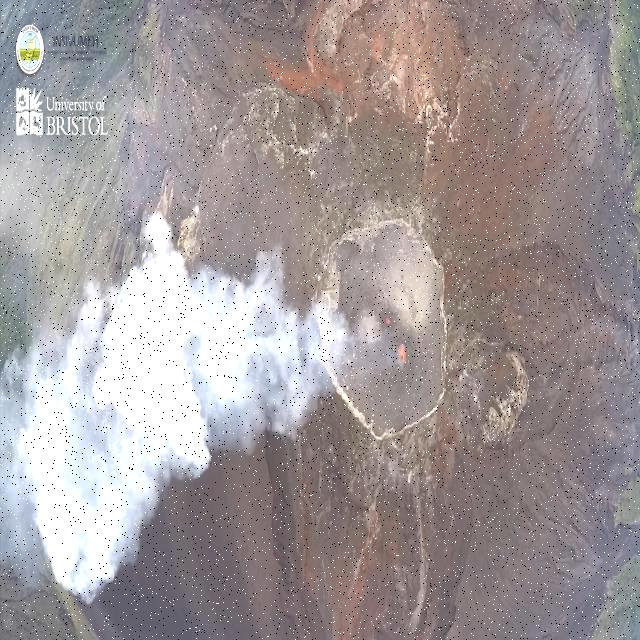Plume: (1, 249, 327, 607)
Summit: (314, 196, 458, 460)
